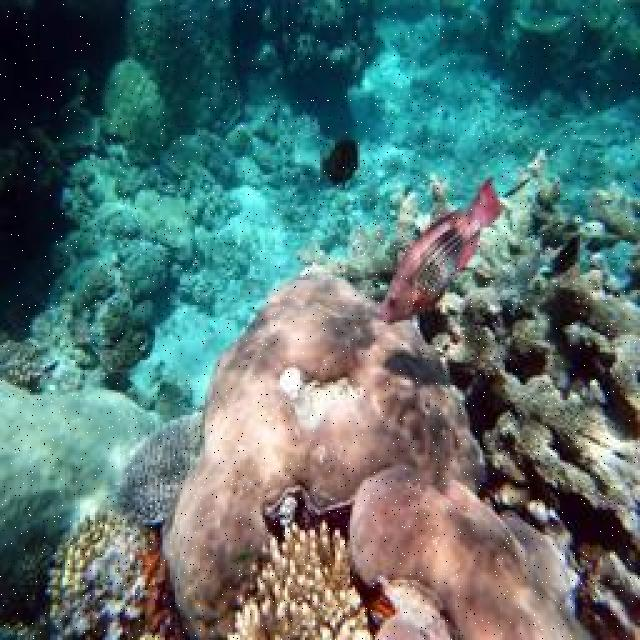fish: (378, 176, 504, 321)
reefs: (225, 520, 374, 637), (44, 508, 155, 618), (115, 411, 205, 533)
